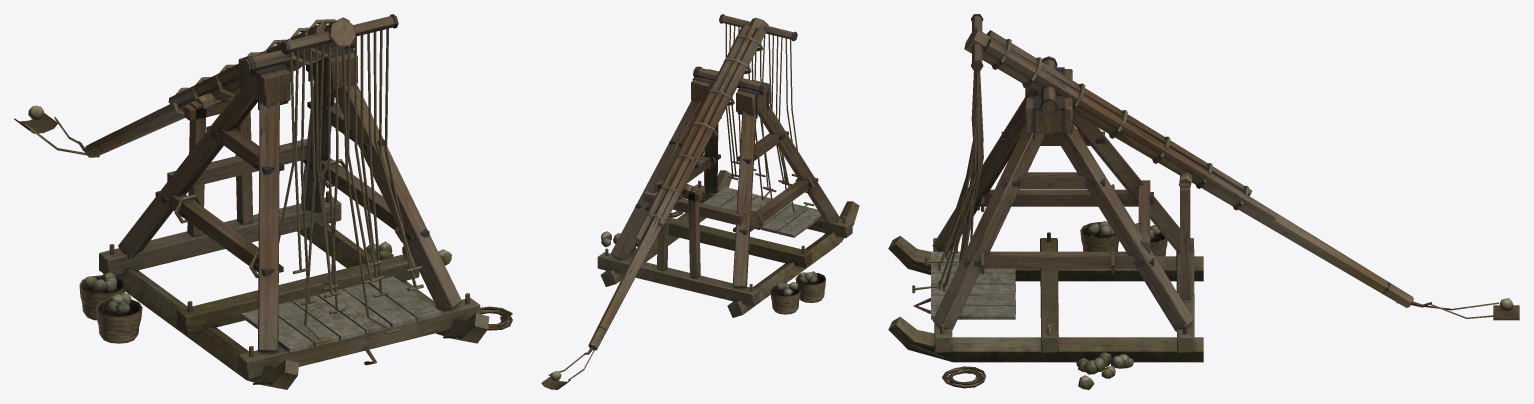
File: mangonel.glb
The picture shows the model from 3 angles, left to right: view 1: azimuth 30°, elevation 25°; view 2: azimuth 150°, elevation 25°; view 3: azimuth 270°, elevation 25°; orthographic projection. The views are drawn at different scales.
Visible parts, largest first — view 1: body_LOD0, ropes, arm, sling; view 2: body_LOD0, arm, ropes, sling; view 3: body_LOD0, arm, ropes, sling.
Boxes of the visible parts, bbox=[...] form: body_LOD0: bbox=[79, 47, 512, 389]; ropes: bbox=[279, 28, 423, 344]; arm: bbox=[78, 14, 398, 157]; sling: bbox=[14, 105, 99, 157]; body_LOD0: bbox=[597, 69, 859, 317]; arm: bbox=[584, 14, 797, 354]; ropes: bbox=[725, 24, 814, 212]; sling: bbox=[541, 349, 595, 389]; body_LOD0: bbox=[888, 67, 1203, 389]; arm: bbox=[964, 14, 1431, 307]; ropes: bbox=[912, 71, 983, 293]; sling: bbox=[1396, 298, 1519, 320].
Size of what is drawn, in the model's own units: 4.69 by 4.35 by 8.57.
1 material, 1 textured.
